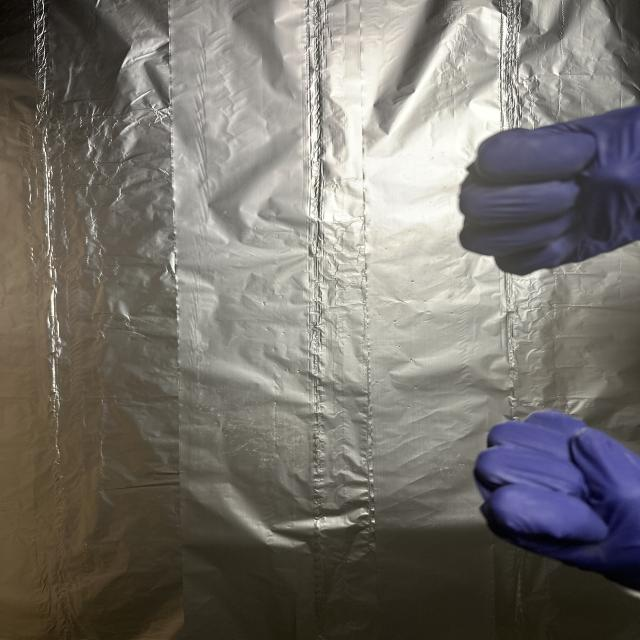gloves_contaminated: (460, 106, 640, 275), (473, 410, 640, 590)
